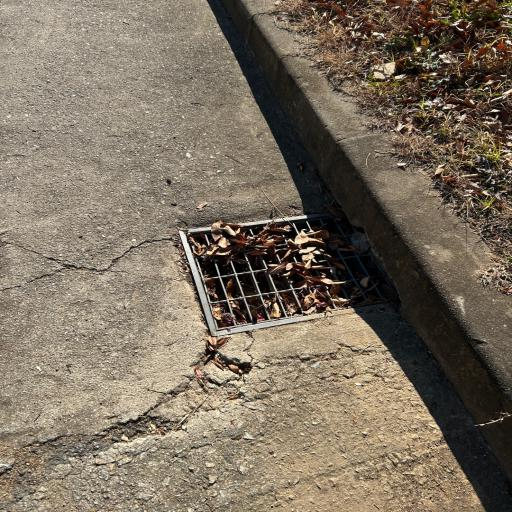debris: (271, 250, 326, 287), (299, 280, 348, 309), (196, 228, 228, 256), (289, 233, 322, 249), (214, 303, 233, 327), (256, 229, 278, 247), (233, 226, 251, 247), (265, 300, 280, 318), (283, 295, 297, 312), (251, 306, 264, 321), (227, 292, 238, 307), (271, 222, 286, 231), (252, 249, 262, 254), (227, 279, 232, 287), (209, 289, 214, 295), (206, 278, 212, 283), (237, 320, 245, 322)
drain: (191, 217, 390, 328)
